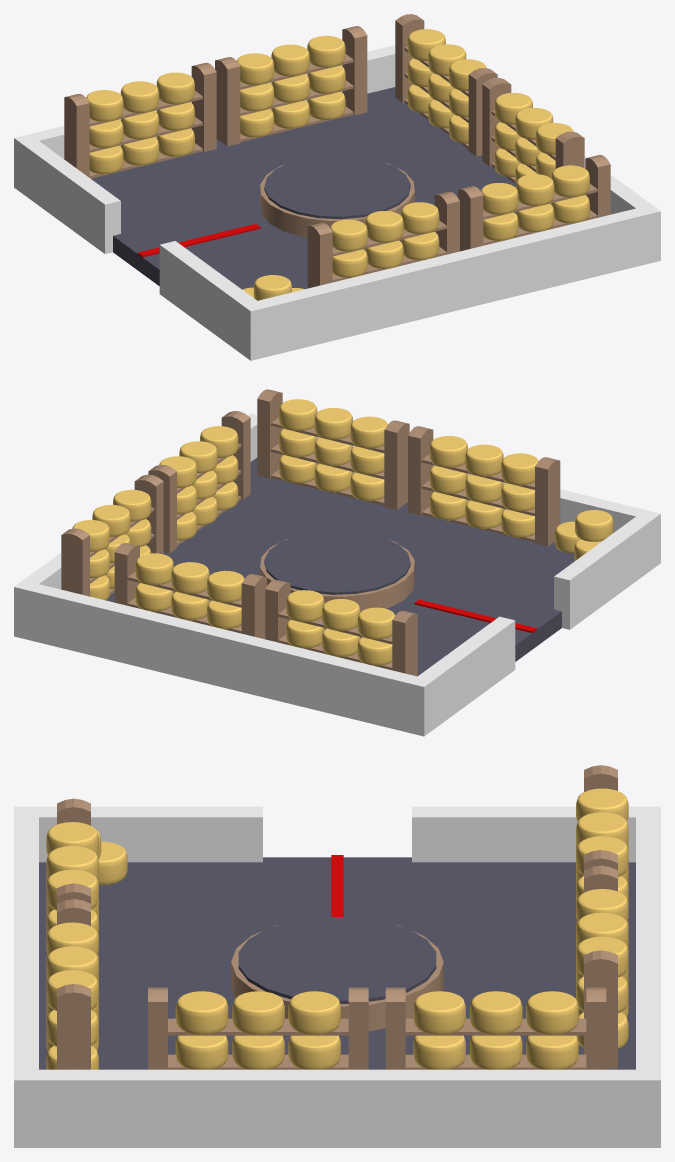
File: Cave_à_Fromage_State0.fbx
3 views of the same model, one above another, from view 1: azimuth 30°, elevation 25°; view 2: azimuth 150°, elevation 25°; view 3: azimuth 270°, elevation 25° (orthographic). The views are drawn at different scales.
Parts seen in each view (by area): view 1: Cave_à_Fromage_State0; view 2: Cave_à_Fromage_State0; view 3: Cave_à_Fromage_State0.
Boxes of the visible parts, x1,y1,x2,y2 form: Cave_à_Fromage_State0: (14, 14, 660, 360); Cave_à_Fromage_State0: (14, 389, 660, 736); Cave_à_Fromage_State0: (14, 765, 660, 1147).
Size of the model in its own units: 26 by 5.87 by 26.
